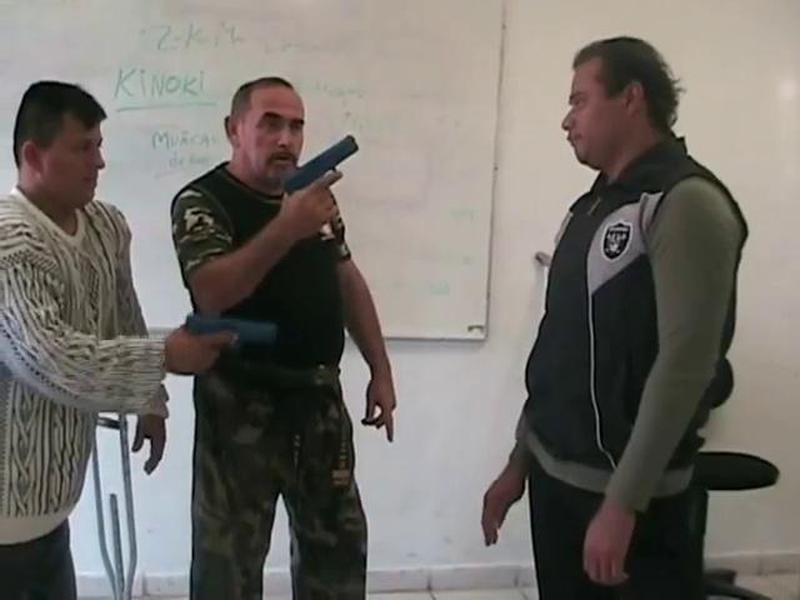Pistola: (174, 297, 287, 400), (272, 131, 379, 233)
